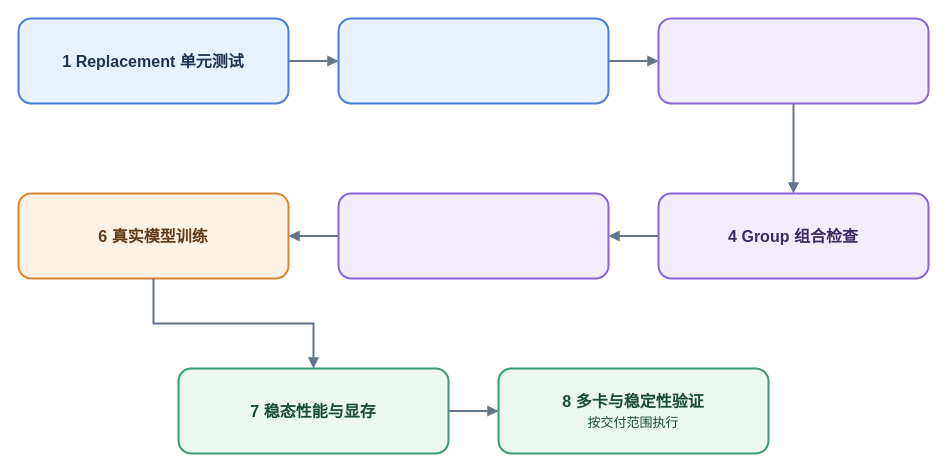
This 946x471 diagram has some shape labels left out. The centre of each missing label's shape, as x and y in pixels:
"2 数值与必要梯度 使用固定输入对比基线" goes at point 473,60.
"3 单个 Group 接入检查" goes at point 793,60.
"5 完整 OptimizationConfig" goes at point 473,235.
